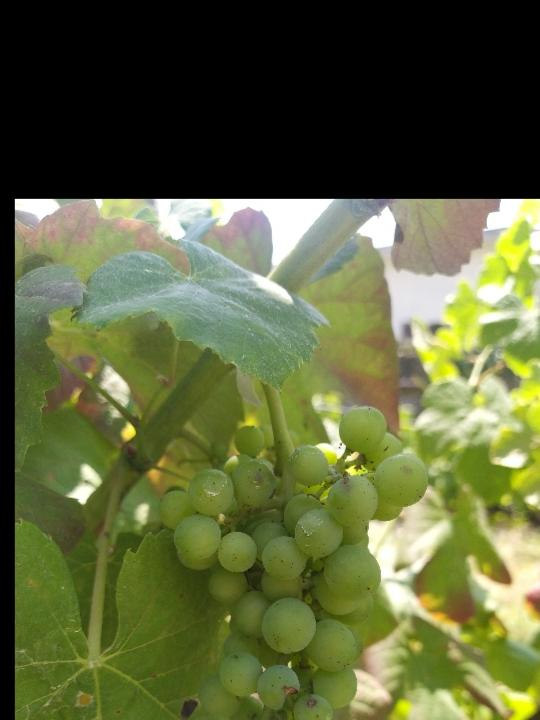grape: (154, 404, 431, 720)
